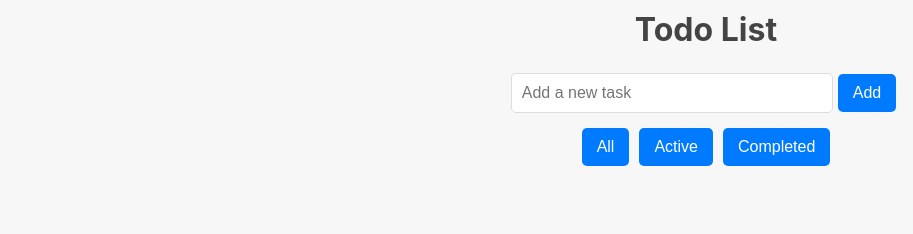
Test: renders TodoApp and adds a new task
The width and height of the screenshot is (913, 234).
Type "Test task" into the field with placeholder "Add a new task" at (672, 93), box left=511, top=73, right=833, bottom=113
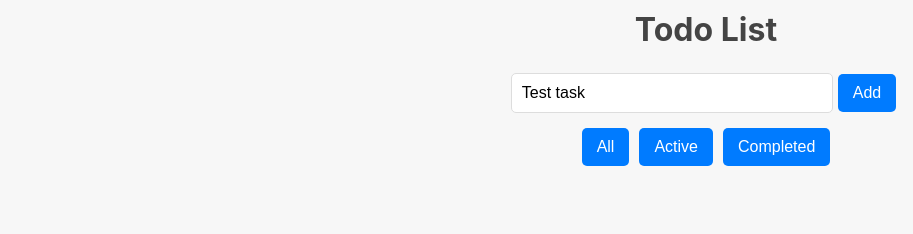
Click the button "Add" at (867, 93), box left=838, top=74, right=896, bottom=112
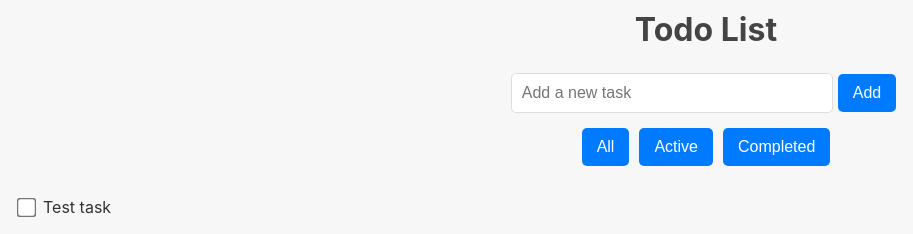
Expected: the list item "Test task" is shown, left=17, top=197, right=111, bottom=217
